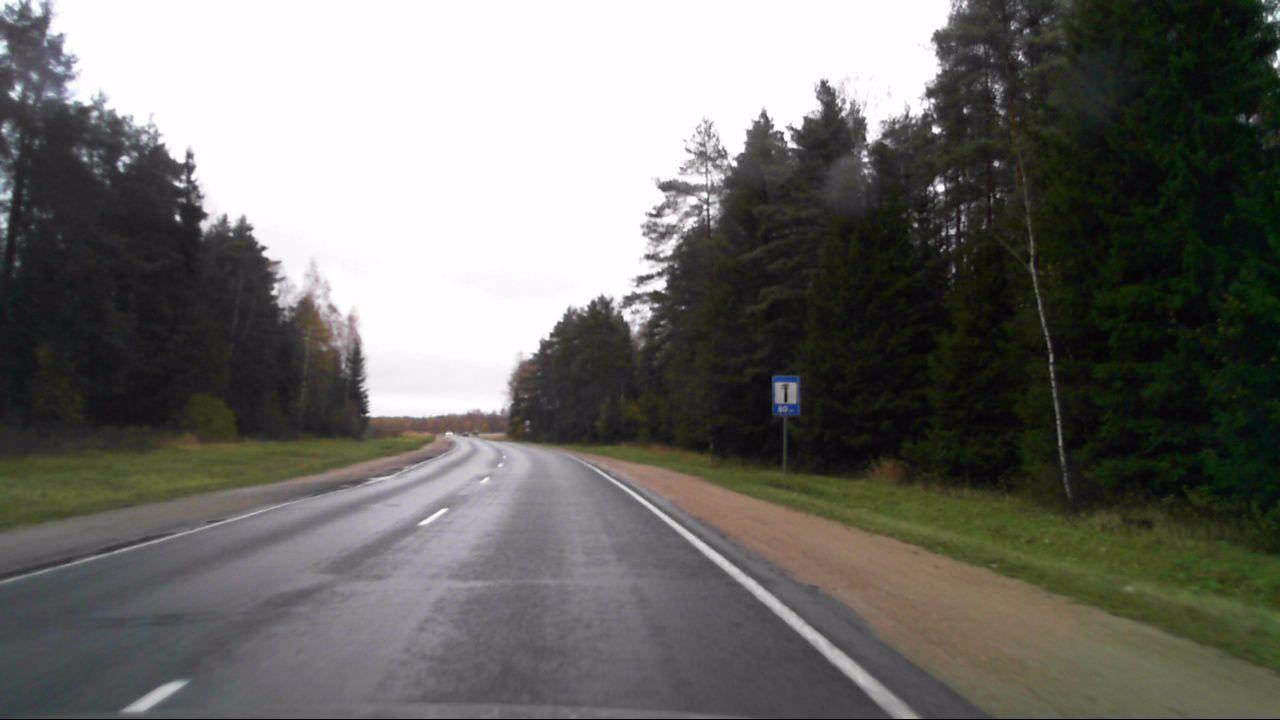7_4: (771, 371, 800, 416)
